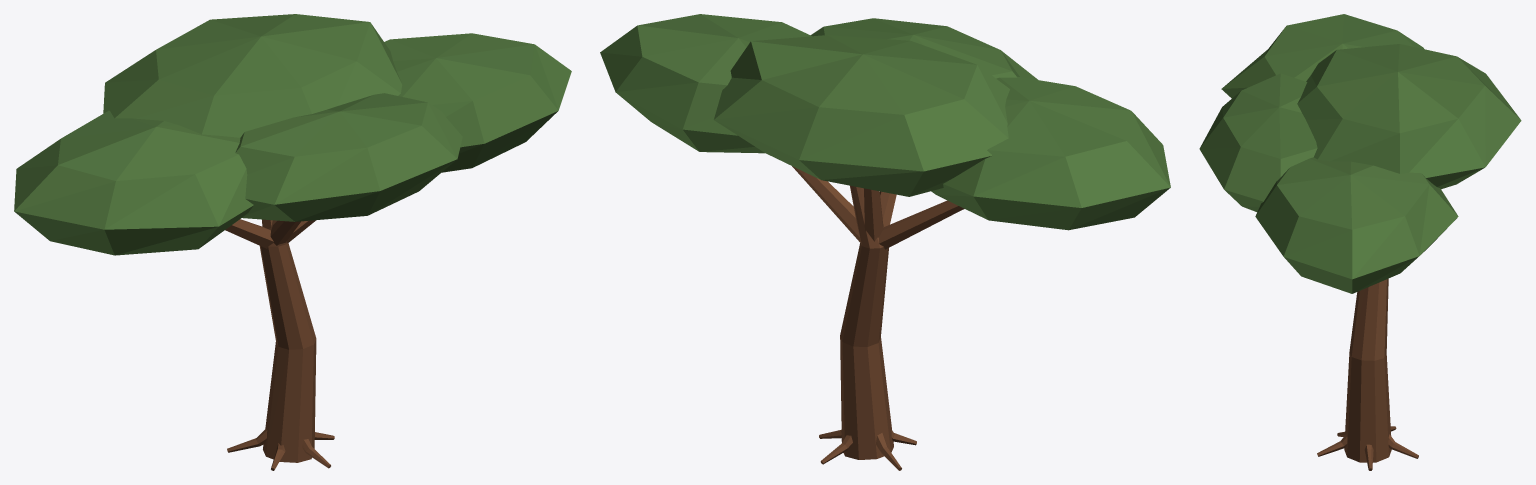
File: Plant_Common_UmbrellaTree_001.glb
The picture shows the model from 3 angles, left to right: view 1: azimuth 30°, elevation 25°; view 2: azimuth 150°, elevation 25°; view 3: azimuth 270°, elevation 25°; orthographic projection. The views are drawn at different scales.
Parts seen in each view (by area): view 1: Plant_Common_UmbrellaTree_001; view 2: Plant_Common_UmbrellaTree_001; view 3: Plant_Common_UmbrellaTree_001.
Boxes of the visible parts, box(x1,y1,x2,y2) form: Plant_Common_UmbrellaTree_001: box(14, 14, 571, 470); Plant_Common_UmbrellaTree_001: box(600, 14, 1170, 470); Plant_Common_UmbrellaTree_001: box(1199, 14, 1521, 470).
Bounding box in the file's own units: 7.51 × 5.22 × 4.05.
